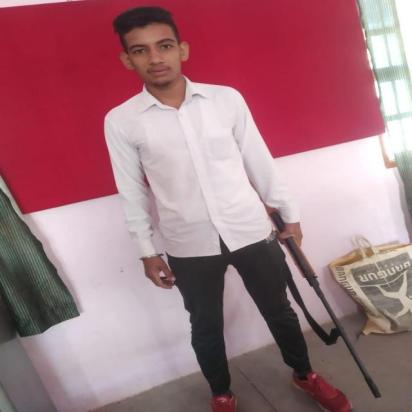Gun: (263, 204, 384, 400)
